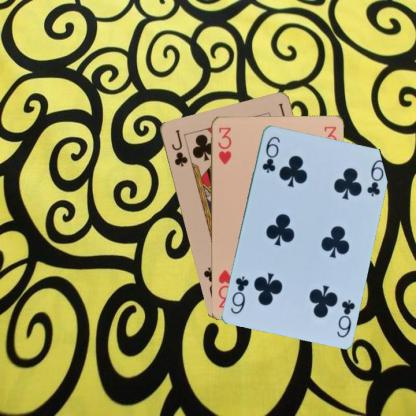3h: (216, 124, 232, 165)
6c: (334, 296, 356, 338), (259, 133, 281, 174)
Jc: (169, 127, 189, 168)
